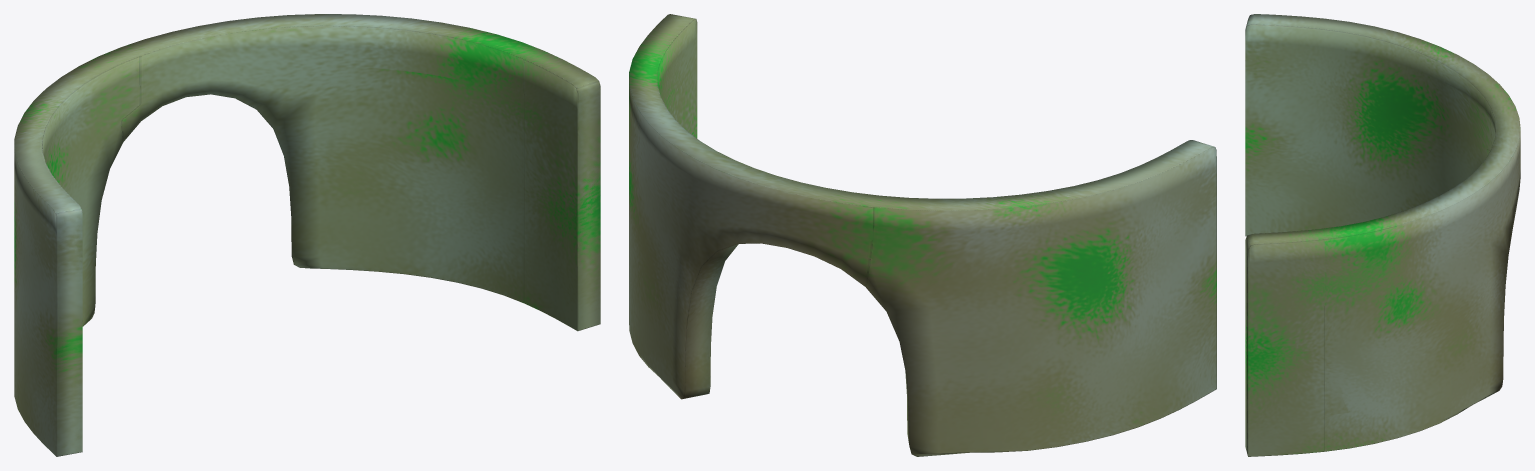
The model's file is Pared1.fbx.
3 renders of one model, left to right at view 1: azimuth 30°, elevation 25°; view 2: azimuth 150°, elevation 25°; view 3: azimuth 270°, elevation 25°, orthographic. The views are drawn at different scales.
Visible parts, largest first — view 1: Plane.029; view 2: Plane.029; view 3: Plane.029.
Boxes of the visible parts, box(x1,y1,x2,y2) form: Plane.029: box(14, 14, 600, 456); Plane.029: box(629, 14, 1216, 456); Plane.029: box(1245, 14, 1520, 456).
Bounding box in the file's own units: 1041 × 446 × 524.
Materials: 1 (1 with a texture image).
